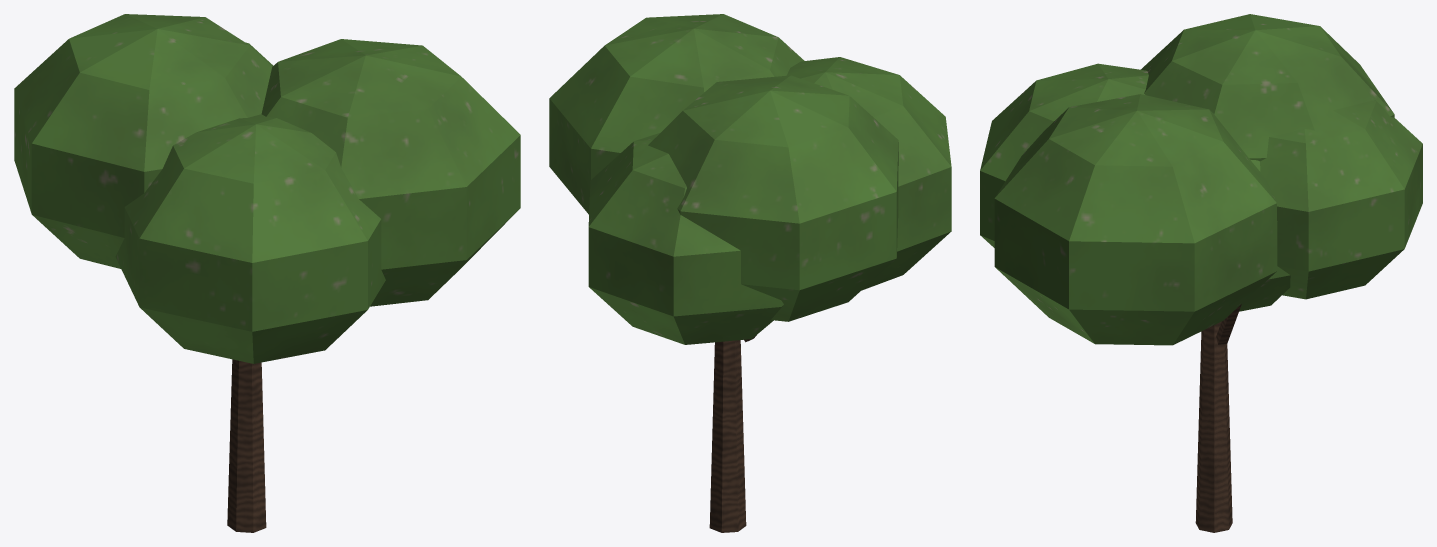
File: Tree_Green.fbx
3 renders of one model, left to right at view 1: azimuth 30°, elevation 25°; view 2: azimuth 150°, elevation 25°; view 3: azimuth 270°, elevation 25°, orthographic. The views are drawn at different scales.
Visible parts, largest first — view 1: Crown, Trunk; view 2: Crown, Trunk; view 3: Crown, Trunk.
Part boxes in pixels (<box>): Crown: <box>14,14,520,363</box>; Trunk: <box>227,359,266,532</box>; Crown: <box>549,14,951,344</box>; Trunk: <box>709,335,756,532</box>; Crown: <box>980,14,1422,345</box>; Trunk: <box>1195,304,1241,532</box>.
Bounding box in the file's own units: 6.37 × 7.58 × 6.56.
